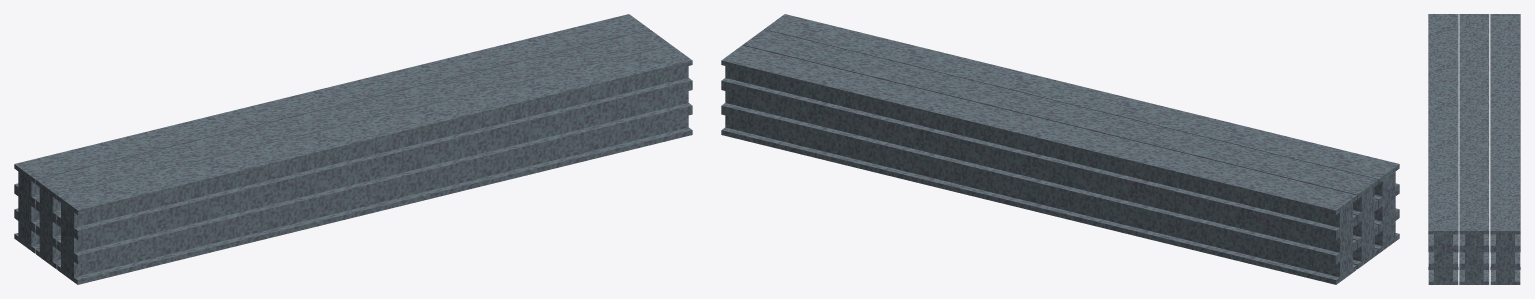
Rendered from BGN_STEER BARS - Copy.fbx.
The picture shows the model from 3 angles, left to right: view 1: azimuth 30°, elevation 25°; view 2: azimuth 150°, elevation 25°; view 3: azimuth 270°, elevation 25°; orthographic projection. The views are drawn at different scales.
Visible parts, largest first — view 1: BGN_STEER_BARS; view 2: BGN_STEER_BARS; view 3: BGN_STEER_BARS.
Part boxes in pixels (<box>): BGN_STEER_BARS: <box>14,14,692,284</box>; BGN_STEER_BARS: <box>721,14,1399,284</box>; BGN_STEER_BARS: <box>1428,14,1520,284</box>.
Bounding box in the file's own units: 575 × 66.57 × 103.
